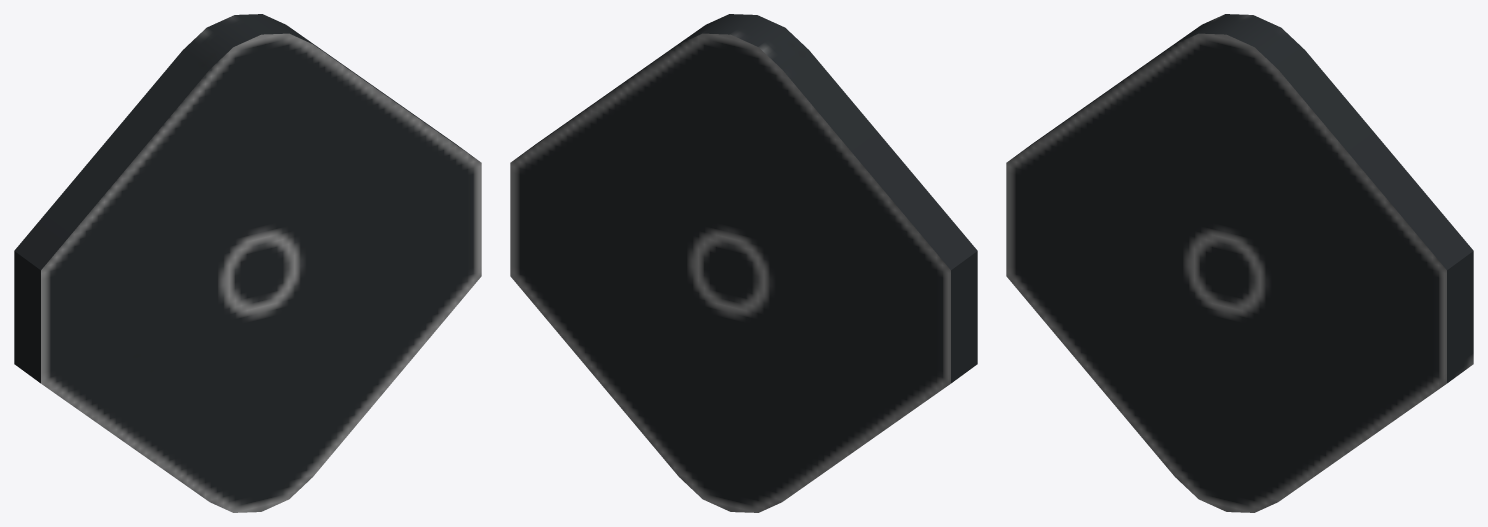
The model's file is Interior2_panel_Elrmrnt_SciFi_1_BS.fbx.
3 views of the same model, side by side, from view 1: azimuth 30°, elevation 25°; view 2: azimuth 150°, elevation 25°; view 3: azimuth 330°, elevation 25° (orthographic).
Visible parts, largest first — view 1: Interior2_panel_Elrmrnt_SciFi_1_BS; view 2: Interior2_panel_Elrmrnt_SciFi_1_BS; view 3: Interior2_panel_Elrmrnt_SciFi_1_BS.
Part boxes in pixels (<box>): Interior2_panel_Elrmrnt_SciFi_1_BS: <box>14,14,481,512</box>; Interior2_panel_Elrmrnt_SciFi_1_BS: <box>510,14,977,512</box>; Interior2_panel_Elrmrnt_SciFi_1_BS: <box>1006,14,1473,512</box>.
Size of the model in its own units: 68.82 by 71.23 by 7.24.
1 material, 1 textured.
